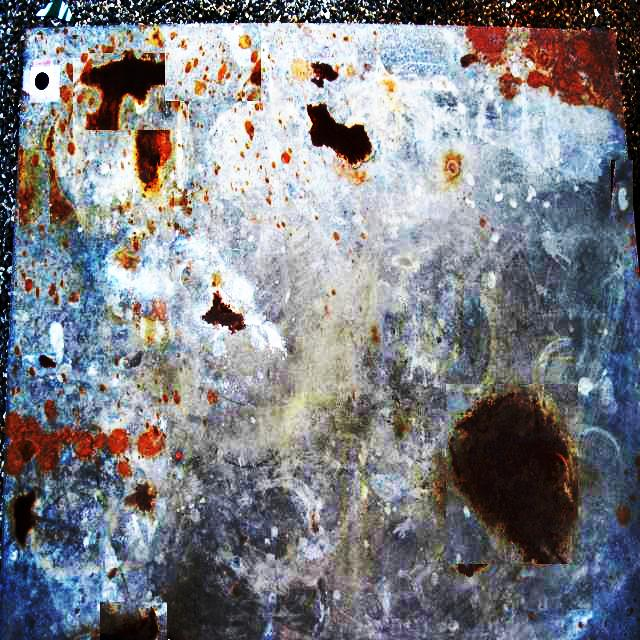Corrosion: (451, 394, 577, 564), (526, 30, 624, 120), (4, 414, 128, 474), (80, 52, 164, 110), (308, 104, 372, 163), (137, 130, 171, 184), (86, 88, 129, 130), (100, 609, 158, 640), (16, 149, 39, 224), (203, 292, 245, 332), (467, 26, 508, 64), (13, 492, 34, 545), (50, 174, 72, 220), (137, 426, 165, 458), (126, 484, 156, 512), (312, 62, 339, 86), (501, 74, 523, 98), (39, 125, 54, 150), (462, 54, 477, 66)
